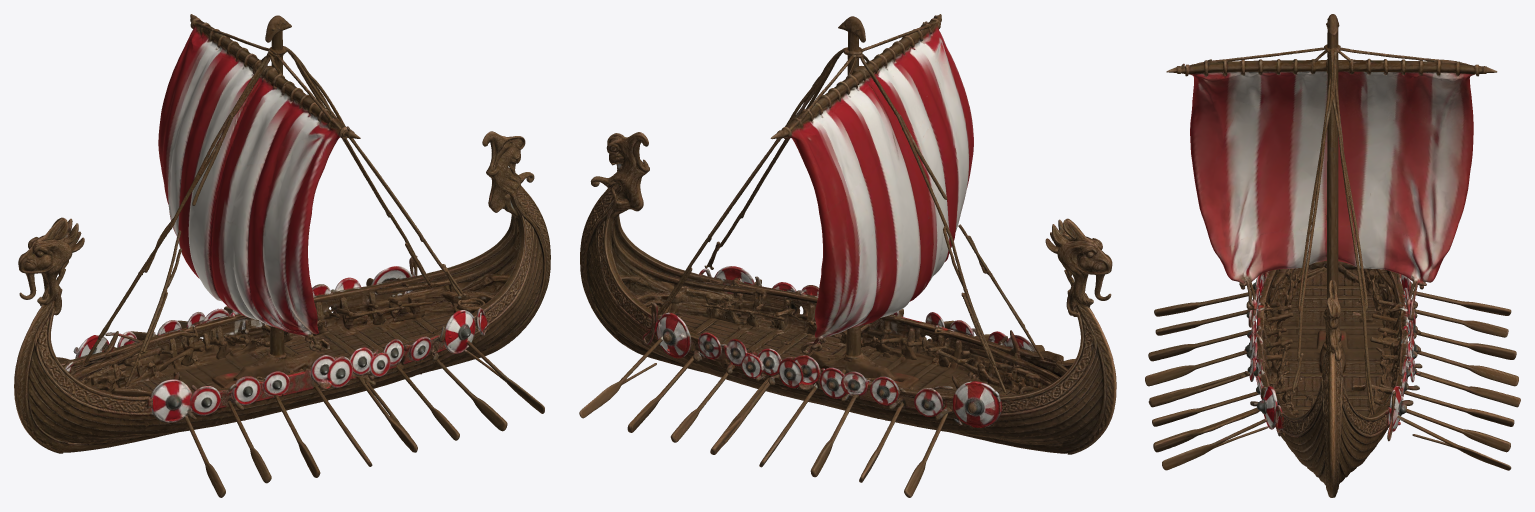
File: drakkar.glb
3 views of the same model, side by side, from view 1: azimuth 30°, elevation 25°; view 2: azimuth 150°, elevation 25°; view 3: azimuth 270°, elevation 25° (orthographic). The views are drawn at different scales.
Parts seen in each view (by area): view 1: mesh_node; view 2: mesh_node; view 3: mesh_node.
Boxes of the visible parts, <box> form: mesh_node: <box>14,14,550,497</box>; mesh_node: <box>579,14,1116,497</box>; mesh_node: <box>1145,14,1520,497</box>.
Bounding box in the file's own units: 1.9 × 1.33 × 1.19.
1 material, 1 textured.
